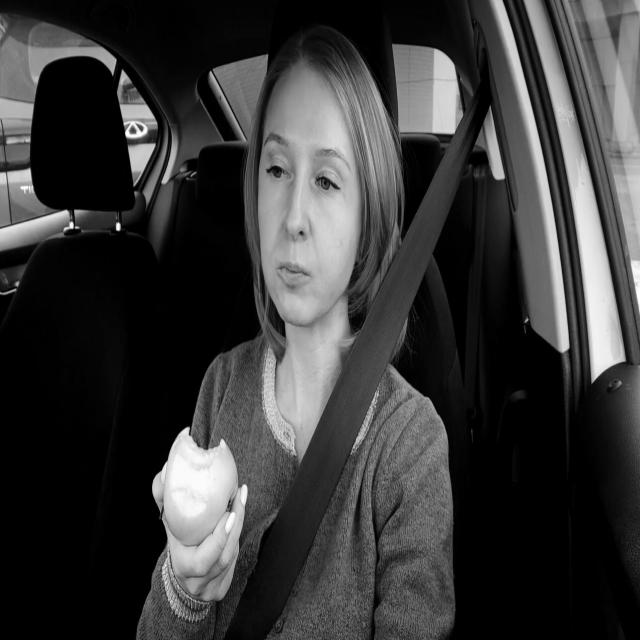Eating: (163, 421, 240, 552)
Seatbelt: (227, 75, 492, 640)
